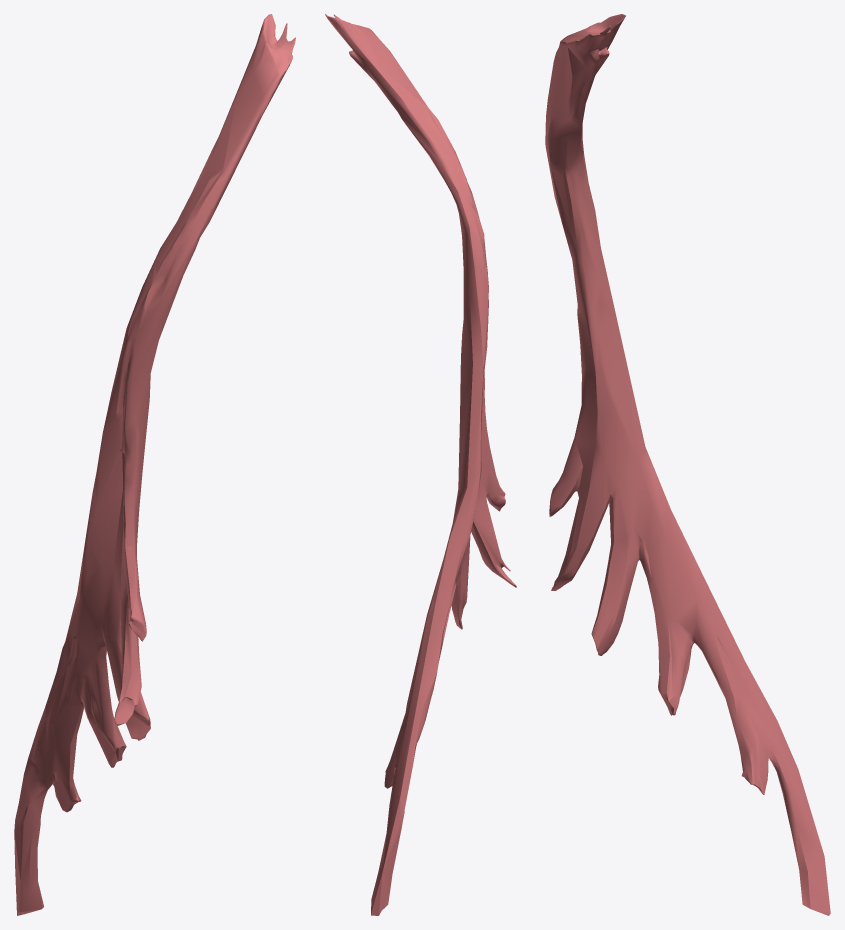
3 renders of one model, left to right at view 1: azimuth 30°, elevation 25°; view 2: azimuth 150°, elevation 25°; view 3: azimuth 270°, elevation 25°, orthographic. The views are drawn at different scales.
Parts seen in each view (by area): view 1: FJ1533M; view 2: FJ1533M; view 3: FJ1533M.
Part boxes in pixels (x1,y1,x2,y2): FJ1533M: [14, 14, 295, 915]; FJ1533M: [325, 14, 516, 915]; FJ1533M: [545, 14, 830, 915].
Bounding box in the file's own units: 0.0362 × 0.1644 × 0.0436.
